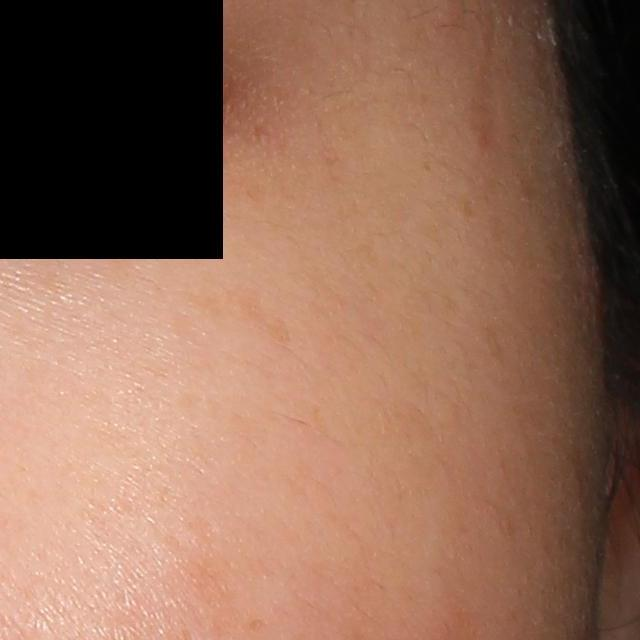melasma: (173, 283, 300, 348)
